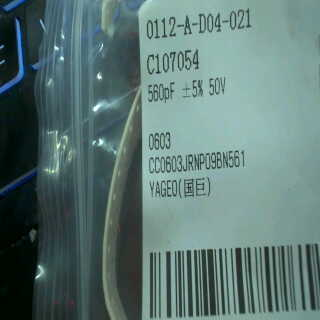560pF: (144, 78, 180, 106)
